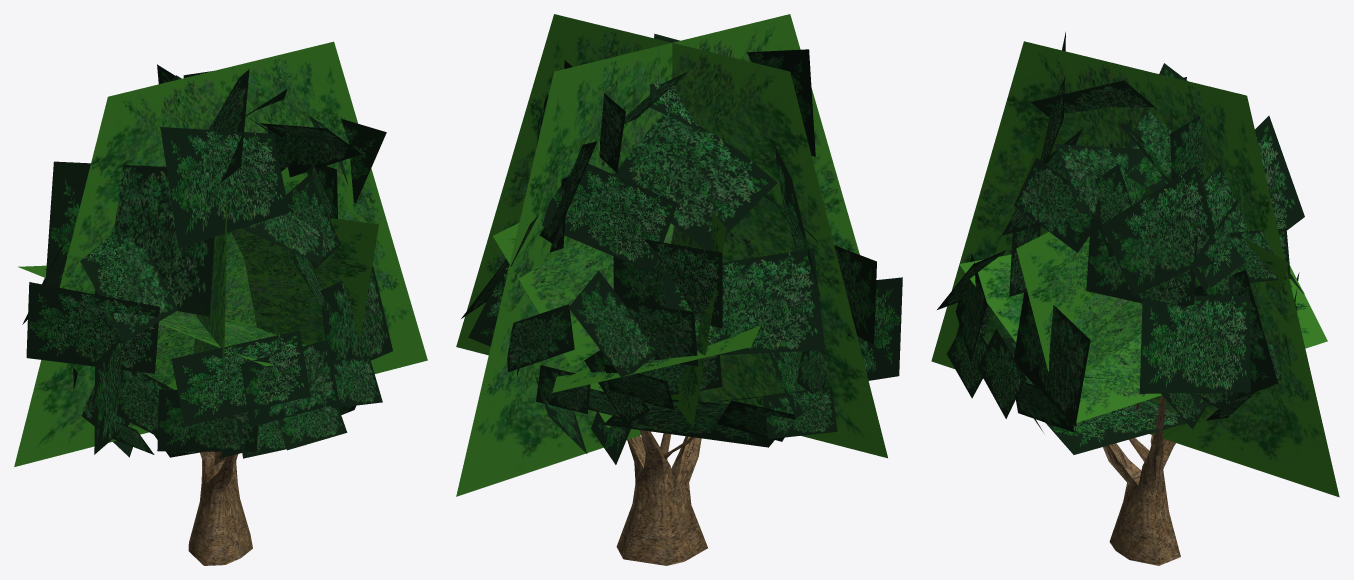
The model's file is gen_tree_g.fbx.
The picture shows the model from 3 angles, left to right: view 1: azimuth 30°, elevation 25°; view 2: azimuth 150°, elevation 25°; view 3: azimuth 270°, elevation 25°; orthographic projection. The views are drawn at different scales.
Parts seen in each view (by area): view 1: leaves, pasted__pPlane2, leaves_center, lod_high; view 2: leaves, pasted__pPlane2, pasted__pPlane4, leaves_center, lod_high; view 3: leaves, pasted__pPlane4, leaves_center, lod_high.
Part boxes in pixels (x1=…): leaves: x1=22, y1=64, x2=392, y2=458; pasted__pPlane2: x1=14, y1=41, x2=427, y2=466; leaves_center: x1=18, y1=167, x2=378, y2=389; lod_high: x1=188, y1=451, x2=252, y2=565; leaves: x1=461, y1=33, x2=902, y2=464; pasted__pPlane2: x1=456, y1=14, x2=887, y2=458; pasted__pPlane4: x1=456, y1=14, x2=859, y2=496; leaves_center: x1=493, y1=210, x2=760, y2=427; lod_high: x1=616, y1=430, x2=707, y2=565; leaves: x1=937, y1=32, x2=1304, y2=454; pasted__pPlane4: x1=931, y1=41, x2=1339, y2=497; leaves_center: x1=959, y1=129, x2=1327, y2=422; lod_high: x1=1103, y1=395, x2=1180, y2=565.
Size of the model in its own units: 10730 by 11994 by 9293.
2 materials, 2 textured.
